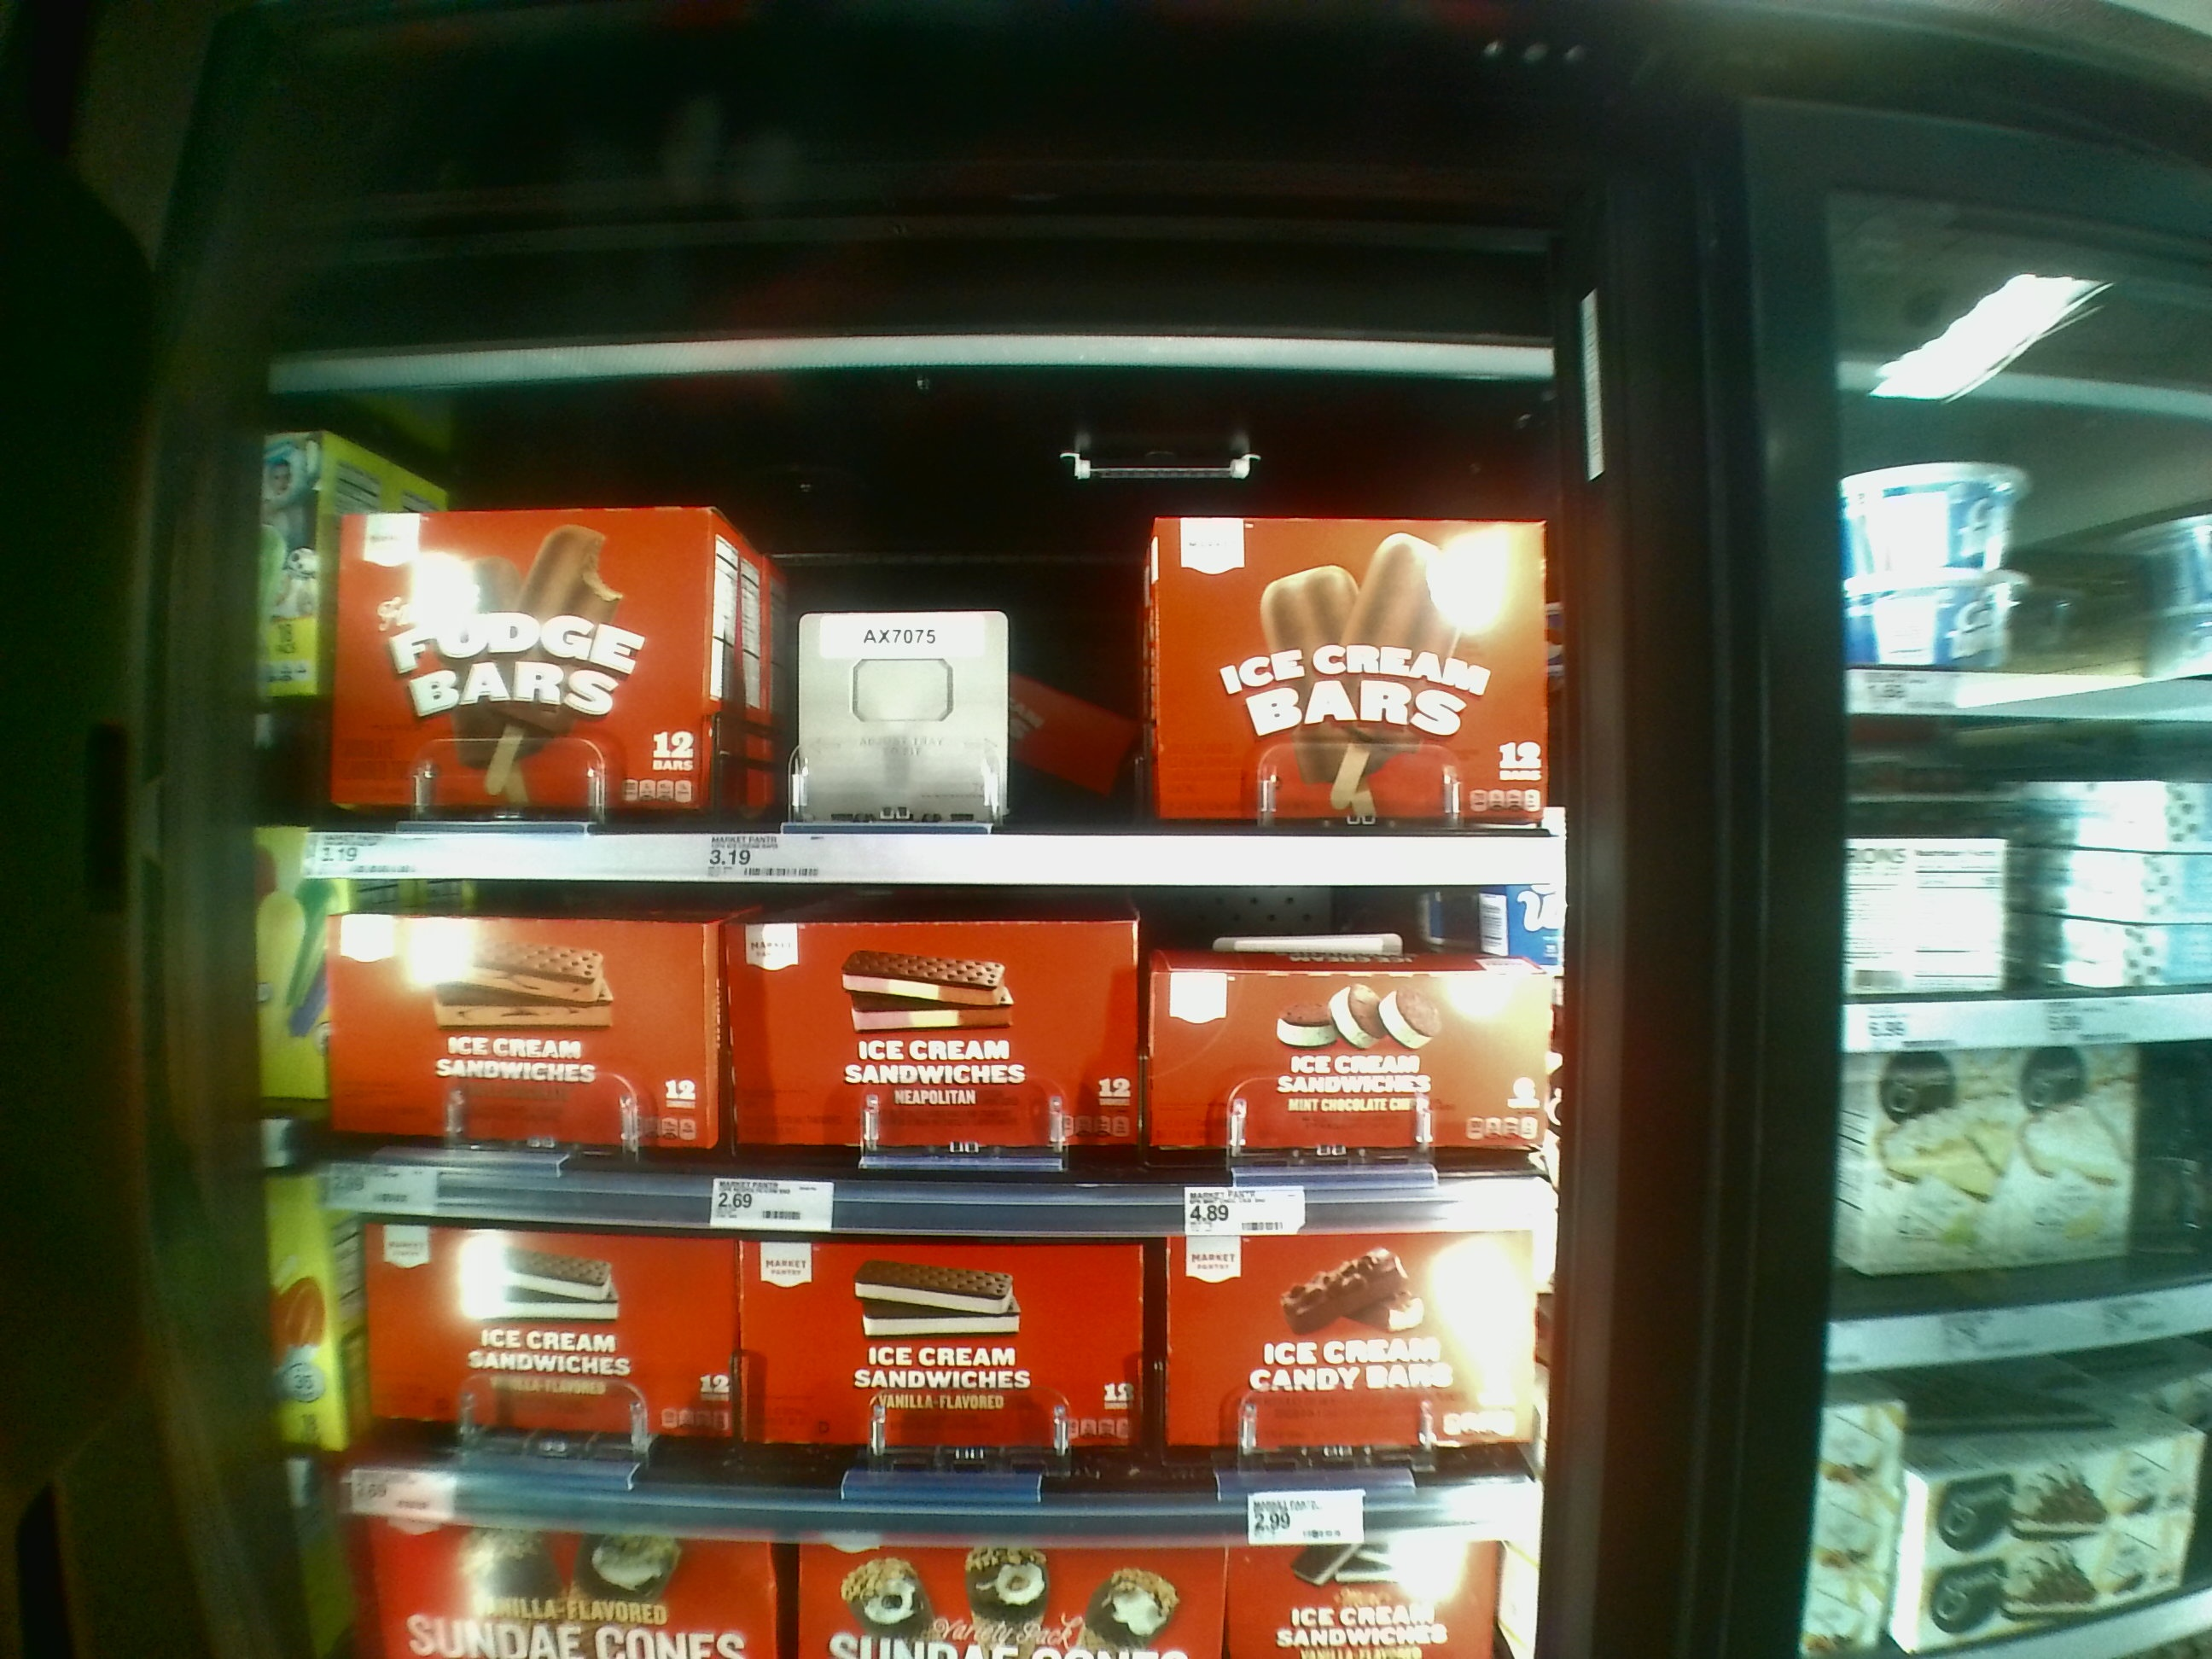shelf: (296, 404, 1531, 890), (319, 885, 1555, 1234), (343, 1227, 1541, 1532)
